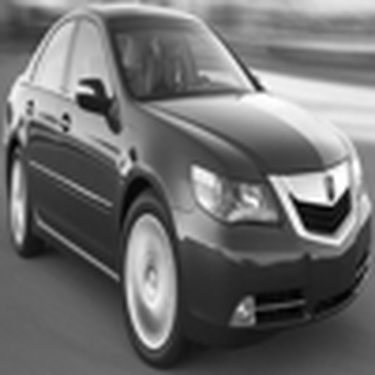car: (1, 6, 371, 371)
